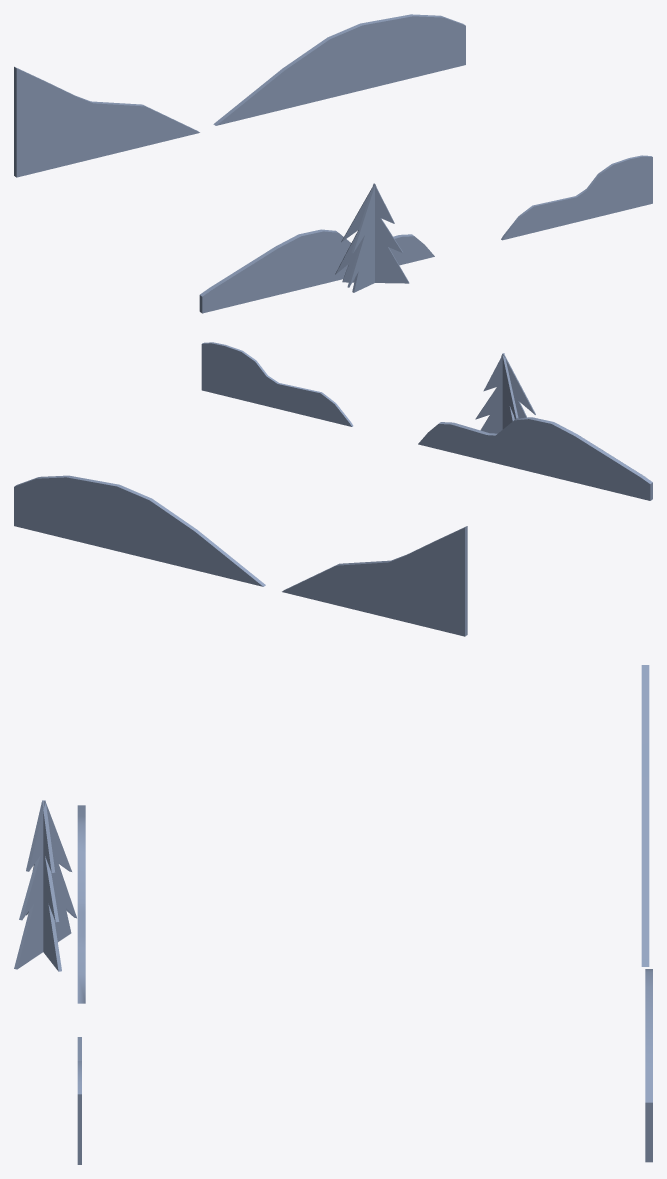
The model's file is frame_0102.glb.
The picture shows the model from 3 angles, top to bottom: view 1: azimuth 30°, elevation 25°; view 2: azimuth 150°, elevation 25°; view 3: azimuth 270°, elevation 25°; orthographic projection. The views are drawn at different scales.
Parts seen in each view (by area): view 1: export_trees_001.002; view 2: export_trees_001.002; view 3: export_trees_001.002.
Part boxes in pixels (box(x1,y1,x2,y2)): export_trees_001.002: box(14, 14, 652, 313); export_trees_001.002: box(14, 342, 652, 636); export_trees_001.002: box(14, 665, 652, 1164).
Size of the model in its own units: 0.4327 by 0.1002 by 0.35.
